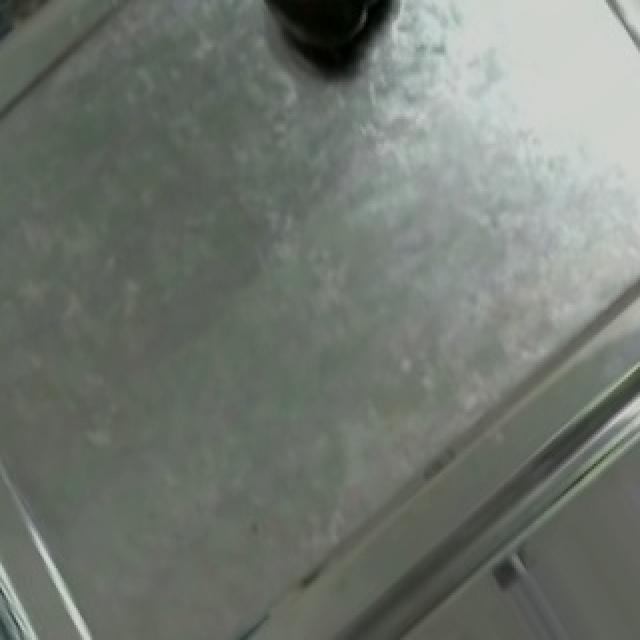Fruit: (244, 0, 404, 79)
